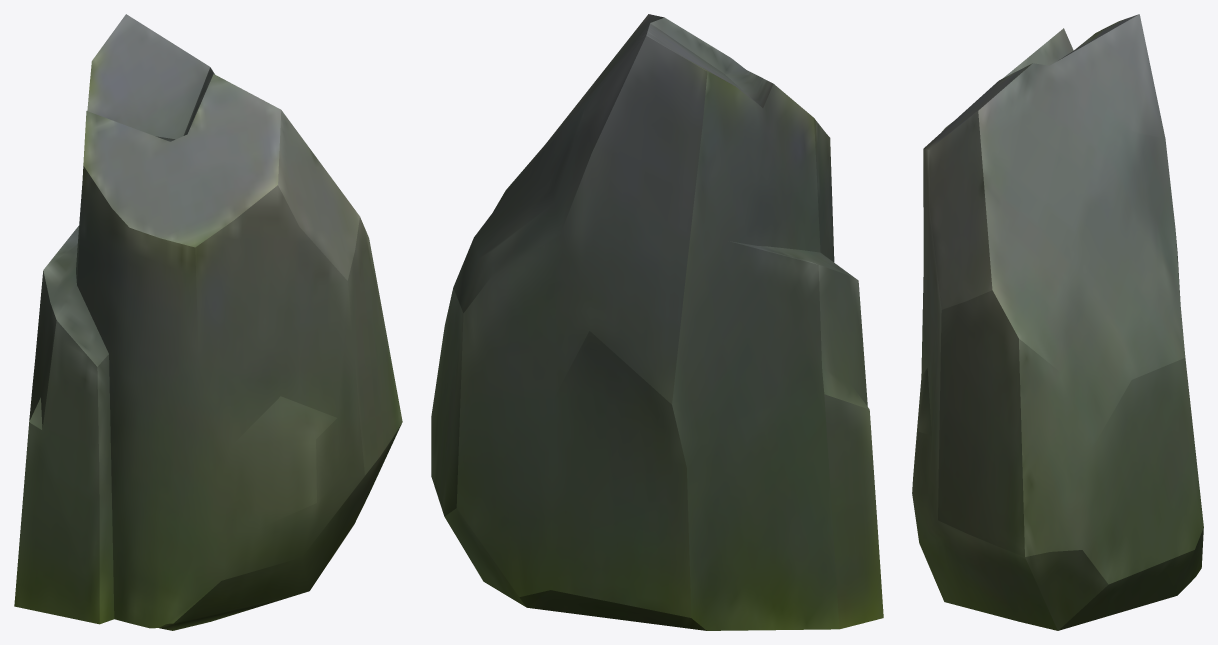
File: rockslab.glb
3 renders of one model, left to right at view 1: azimuth 30°, elevation 25°; view 2: azimuth 150°, elevation 25°; view 3: azimuth 270°, elevation 25°, orthographic. The views are drawn at different scales.
Parts seen in each view (by area): view 1: Rock_Medium_2.001; view 2: Rock_Medium_2.001; view 3: Rock_Medium_2.001.
Boxes of the visible parts, <box> form: Rock_Medium_2.001: <box>14,14,402,630</box>; Rock_Medium_2.001: <box>431,14,883,630</box>; Rock_Medium_2.001: <box>912,14,1203,630</box>.
Bounding box in the file's own units: 2.8 × 3.75 × 1.8.
Materials: 1 (1 with a texture image).
